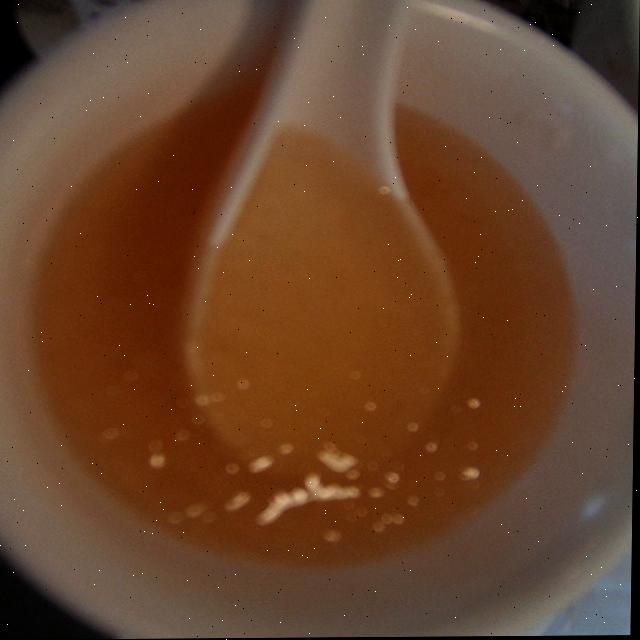蛋糕甜品: (31, 33, 598, 616)
